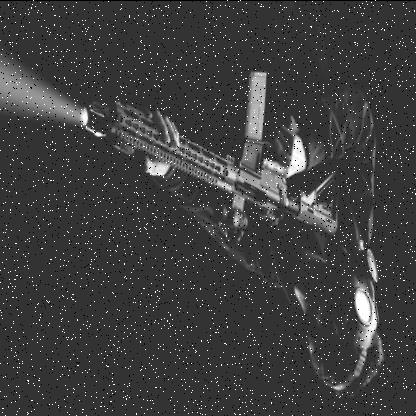rifle: (64, 27, 351, 294)
